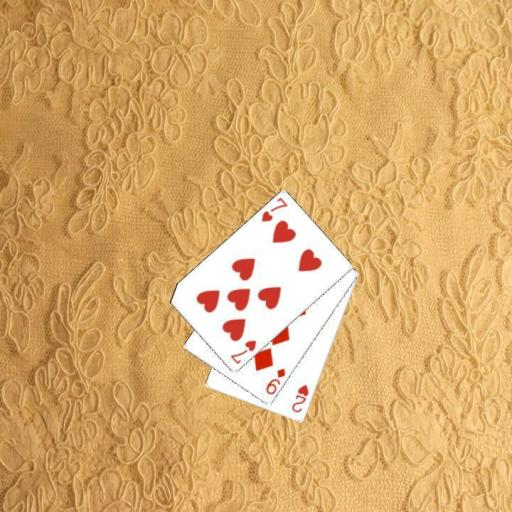card-corner: (258, 194, 289, 224), (227, 337, 258, 366), (262, 365, 288, 397), (289, 381, 310, 415)
